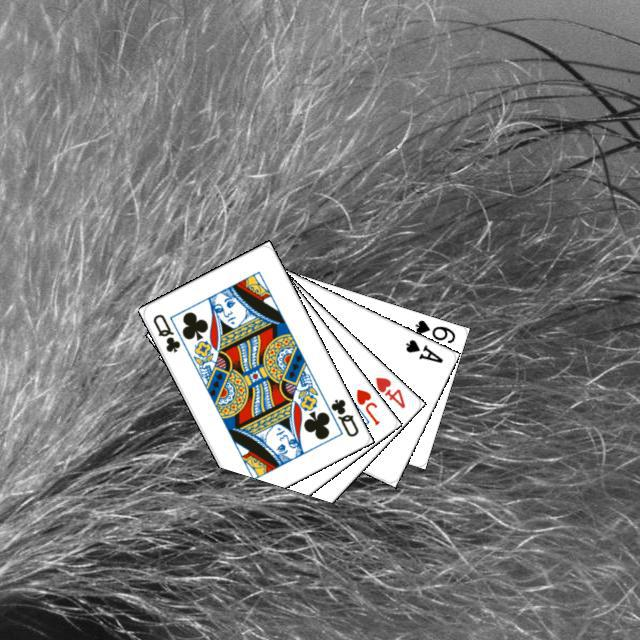4h: (370, 372, 407, 410)
6s: (410, 315, 457, 345)
As: (401, 334, 445, 365)
Jh: (351, 384, 382, 427)
Qc: (319, 394, 360, 439), (148, 309, 182, 354)
